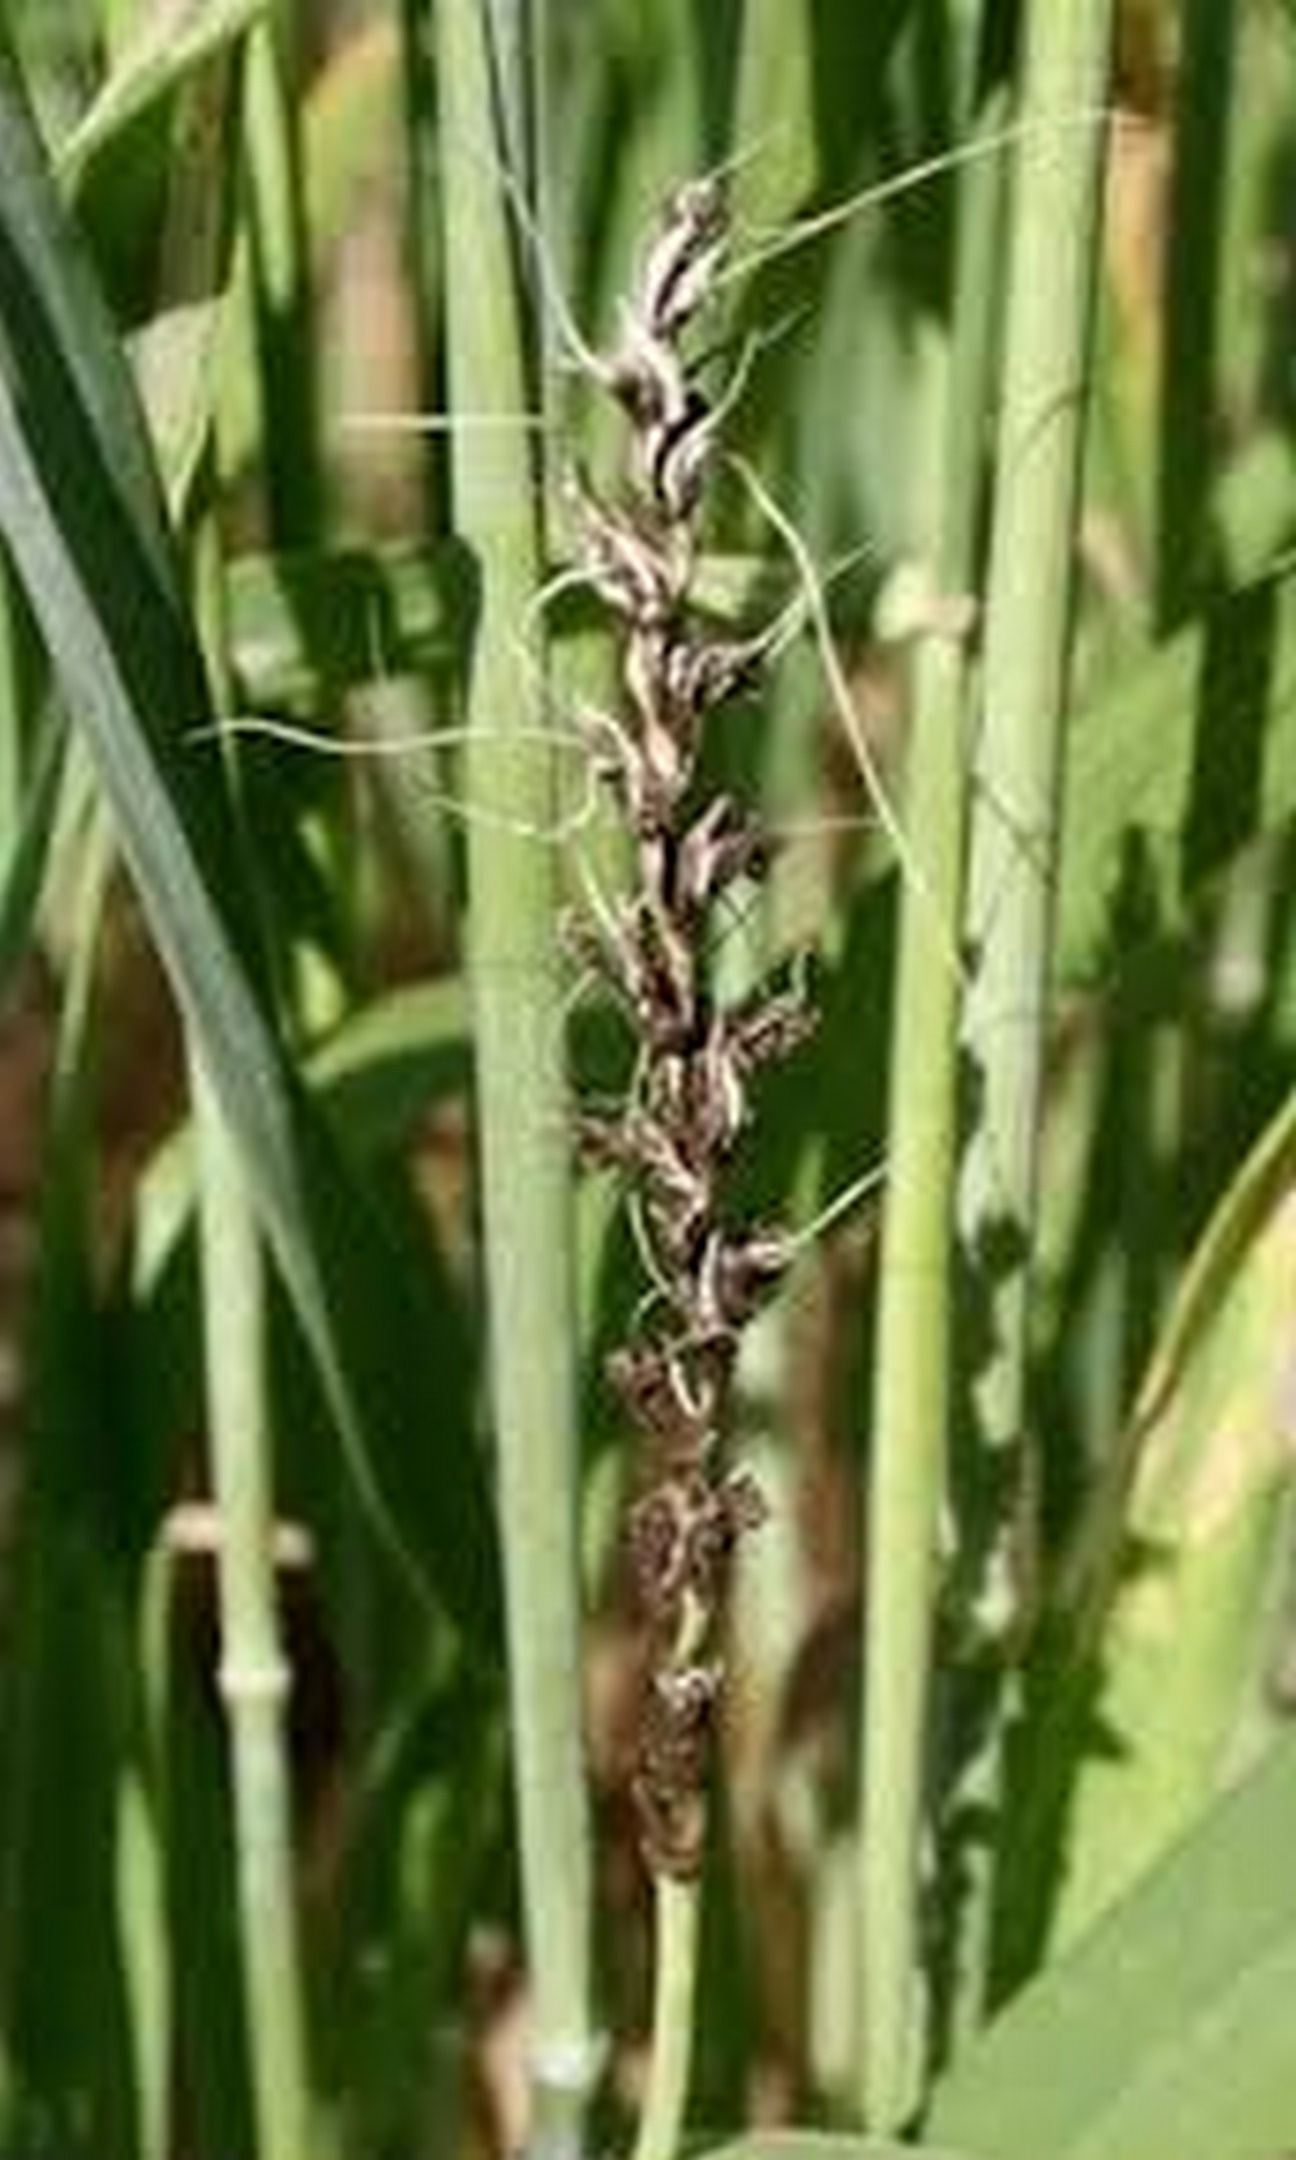Wheat Loose Smut: (511, 417, 842, 1856)
